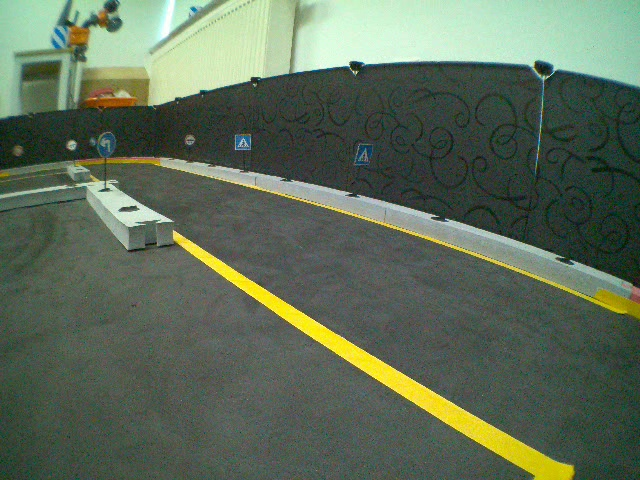crossing: (354, 141, 374, 166), (235, 132, 252, 150)
turn: (97, 130, 117, 157)
